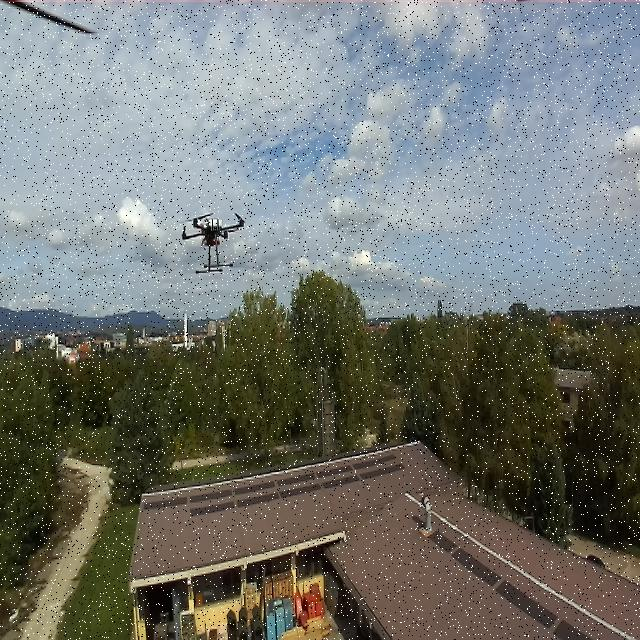UAV: (178, 203, 248, 276)
